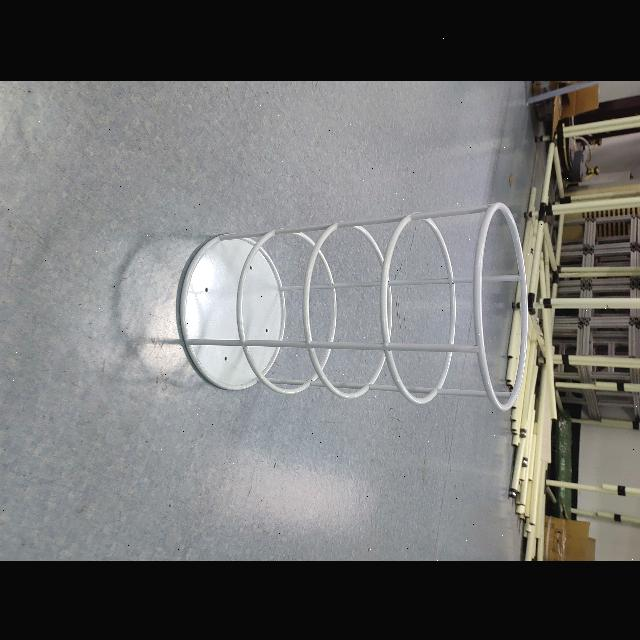S: (173, 194, 531, 416)
